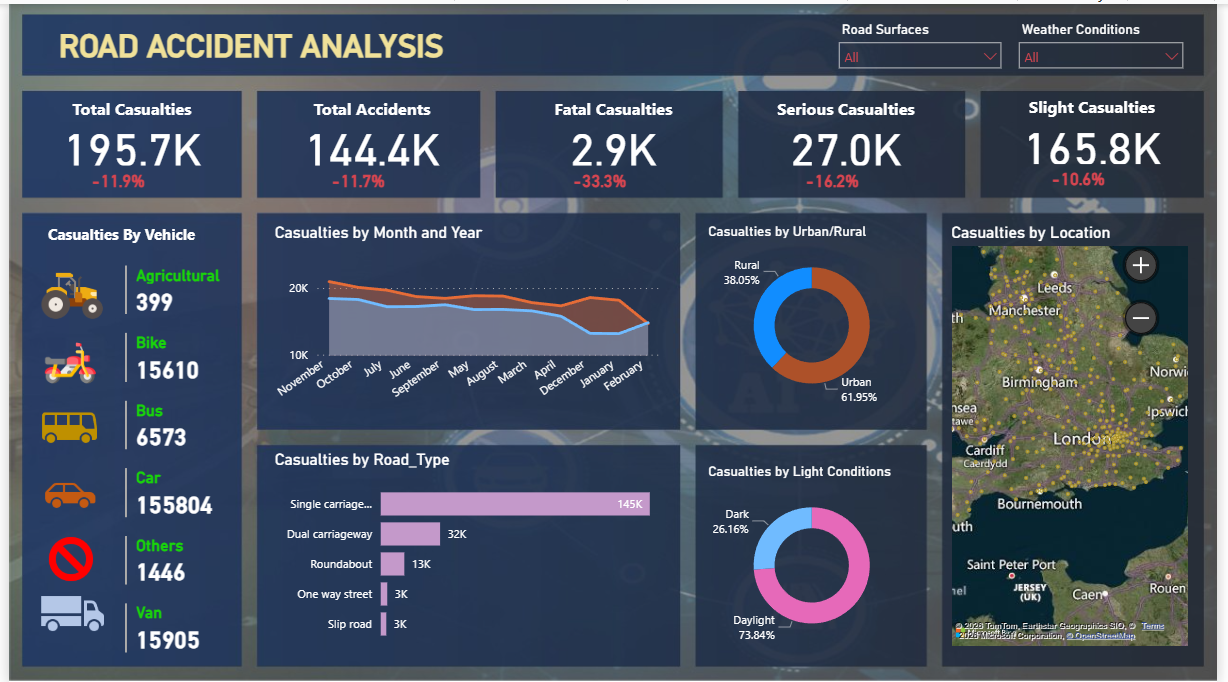

What the dashboard file says about the page in this screenshot:
{"tool":"powerbi","page":{"name":"Page 1","canvas":[1280,720],"ordinal":0},"visuals":[{"type":"card","title":"Slight Casualties","fields":{"Values":["Data.CY_Casualties"]},"box":[1039.4,96.4,216.2,77.9],"z":0,"group":"g5"},{"type":"card","title":"Serious Casualties","fields":{"Values":["Data.CY_Casualties"]},"box":[778.6,98.3,216.2,77.9],"z":0,"group":"g4"},{"type":"group","id":"g1","title":"Group 1","box":[22.3,98.5,216.2,112.8],"z":0},{"type":"card","title":"Total Casualties","fields":{"Values":["Data.CY_Casualties"]},"box":[22.3,98.5,216.2,77.9],"z":0,"group":"g1"},{"type":"card","title":"Total Accidents","fields":{"Values":["Data.CY Accidents Coun"]},"box":[276.6,98.5,216.2,77.9],"z":0,"group":"g2"},{"type":"card","title":"Fatal Casualties","fields":{"Values":["Data.CY_Casualties"]},"box":[532.5,98.5,216.2,77.9],"z":0,"group":"g3"},{"type":"group","id":"g2","title":"Group 1","box":[276.6,98.5,216.2,112.8],"z":1000},{"type":"card","title":"Total CY Casualties","fields":{"Values":["Data.YoY Casualties"]},"box":[1083.9,161.6,97,47.7],"z":1000,"group":"g5"},{"type":"card","title":"Total CY Casualties","fields":{"Values":["Data.YoY Casualties"]},"box":[823.1,163.5,97,47.7],"z":1000,"group":"g4"},{"type":"card","title":"Total CY Casualties","fields":{"Values":["Data.YoY Casualties"]},"box":[66.8,163.7,97,47.7],"z":1000,"group":"g1"},{"type":"card","title":"Total CY Casualties","fields":{"Values":["Data.YoY Accidents"]},"box":[321.1,163.7,97,47.7],"z":1000,"group":"g2"},{"type":"card","title":"Total CY Casualties","fields":{"Values":["Data.YoY Casualties"]},"box":[577,163.7,97,47.7],"z":1000,"group":"g3"},{"type":"group","id":"g3","title":"Group 1","box":[532.5,98.5,216.2,112.8],"z":2000},{"type":"group","id":"g4","title":"Group 1","box":[778.6,98.3,215.4,113.4],"z":3000},{"type":"group","id":"g5","title":"Group 1","box":[1039.4,96.4,215.4,113.4],"z":4000},{"type":"textbox","box":[22.7,18.9,468.7,51],"z":5000},{"type":"multiRowCard","fields":{"Values":["Data.Vehicle_Type (groups)","Data.CY Casualties"]},"box":[117.2,272.1,122.8,447.9],"z":6000},{"type":"image","box":[9.4,268.3,115.3,79.4],"z":7000},{"type":"image","box":[20.8,347.7,88.8,64.3],"z":8000},{"type":"image","box":[15.1,412,96.4,73.7],"z":9000},{"type":"image","box":[20.8,485.7,88.8,68],"z":10000},{"type":"image","box":[24.6,604.7,86.9,83.2],"z":11000},{"type":"image","box":[28.3,553.7,73.7,69.9],"z":12000},{"type":"textbox","box":[28.3,226.8,181.4,41.6],"z":13000},{"type":"areaChart","title":"Casualties by Month and Year","fields":{"Category":["Calendar.Month"],"Y":["Sum(Data.Number_of_Casualties)"],"Series":["Calendar.Year"]},"box":[275.9,232.4,417.6,202.2],"z":14000},{"type":"donutChart","title":"Casualties by Urban/Rural","fields":{"Category":["Data.Urban_or_Rural_Area"],"Y":["Data.CY Casualties"]},"box":[735.1,232.4,228.7,200.3],"z":15000},{"type":"donutChart","title":"Casualties by Light Conditions","fields":{"Y":["Data.CY Casualties"],"Category":["Data.Light_Conditions (groups)"]},"box":[735.1,485.7,228.7,200.3],"z":16000},{"type":"barChart","title":"Casualties by Road_Type","fields":{"Category":["Data.Road_Type"],"Y":["Data.CY Casualties"]},"box":[275.9,472.4,417.6,215.4],"z":17000},{"type":"map","title":"Casualties by Location","fields":{"Y":["Data.Latitude"],"X":["Data.Longitude"],"Category":["Data.Local_Authority_(District)"]},"box":[994,232.4,260.8,453.5],"z":18000},{"type":"slicer","fields":{"Values":["Data.Weather_Conditions (groups)"]},"box":[1060.1,12.7,193.9,57.2],"z":19000},{"type":"slicer","fields":{"Values":["Data.Road_Surface_Conditions (groups)"]},"box":[869.4,12.7,192.3,57.2],"z":20000}]}

Visuals, with their boxes in screenshot pixels (x1, y1, x2, y2), scaled from the page's 1280x720 canvas onto the 1228x682 screenshot:
"Slight Casualties" card: <box>997,91,1205,165</box>
"Serious Casualties" card: <box>747,93,954,167</box>
"Group 1" group: <box>21,93,229,200</box>
"Total Casualties" card: <box>21,93,229,167</box>
"Total Accidents" card: <box>265,93,473,167</box>
"Fatal Casualties" card: <box>511,93,718,167</box>
"Group 1" group: <box>265,93,473,200</box>
"Total CY Casualties" card: <box>1040,153,1133,198</box>
"Total CY Casualties" card: <box>790,155,883,200</box>
"Total CY Casualties" card: <box>64,155,157,200</box>
"Total CY Casualties" card: <box>308,155,401,200</box>
"Total CY Casualties" card: <box>554,155,647,200</box>
"Group 1" group: <box>511,93,718,200</box>
"Group 1" group: <box>747,93,954,201</box>
"Group 1" group: <box>997,91,1204,199</box>
textbox: <box>22,18,471,66</box>
multiRowCard - Data.Vehicle_Type (groups) x Data.CY Casualties: <box>112,258,230,681</box>
image: <box>9,254,120,329</box>
image: <box>20,329,105,390</box>
image: <box>14,390,107,460</box>
image: <box>20,460,105,524</box>
image: <box>24,573,107,652</box>
image: <box>27,524,98,591</box>
textbox: <box>27,215,201,254</box>
"Casualties by Month and Year" areaChart: <box>265,220,665,412</box>
"Casualties by Urban/Rural" donutChart: <box>705,220,925,410</box>
"Casualties by Light Conditions" donutChart: <box>705,460,925,650</box>
"Casualties by Road_Type" barChart: <box>265,447,665,651</box>
"Casualties by Location" map: <box>954,220,1204,650</box>
slicer - Data.Weather_Conditions (groups): <box>1017,12,1203,66</box>
slicer - Data.Road_Surface_Conditions (groups): <box>834,12,1019,66</box>
